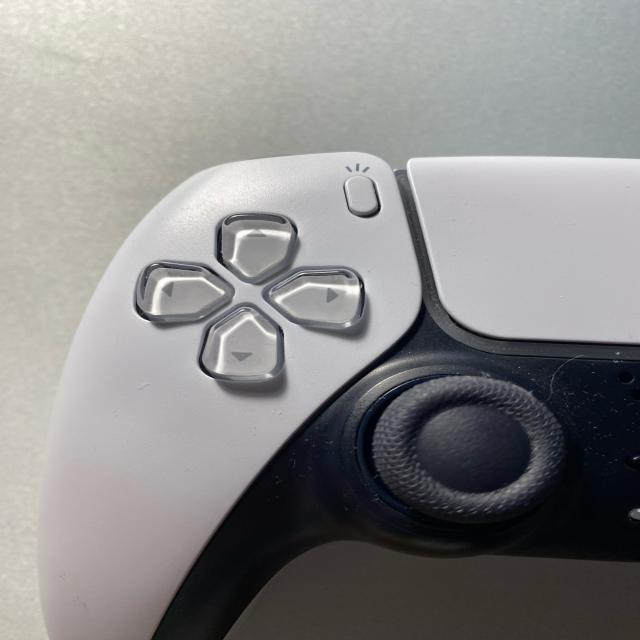dualsensePhoto: (40, 152, 422, 640), (153, 291, 638, 640), (407, 156, 638, 344), (372, 376, 565, 524), (355, 368, 513, 533), (417, 404, 530, 492), (200, 306, 282, 381), (137, 262, 233, 322), (267, 270, 362, 328), (218, 214, 295, 282), (363, 365, 462, 398), (345, 176, 378, 216), (567, 445, 580, 484)
